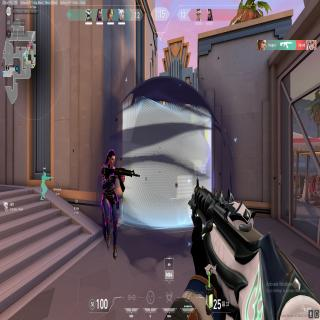ENEMY-BODY: (100, 146, 122, 262)
ENEMY-HEAD: (107, 148, 115, 167)
